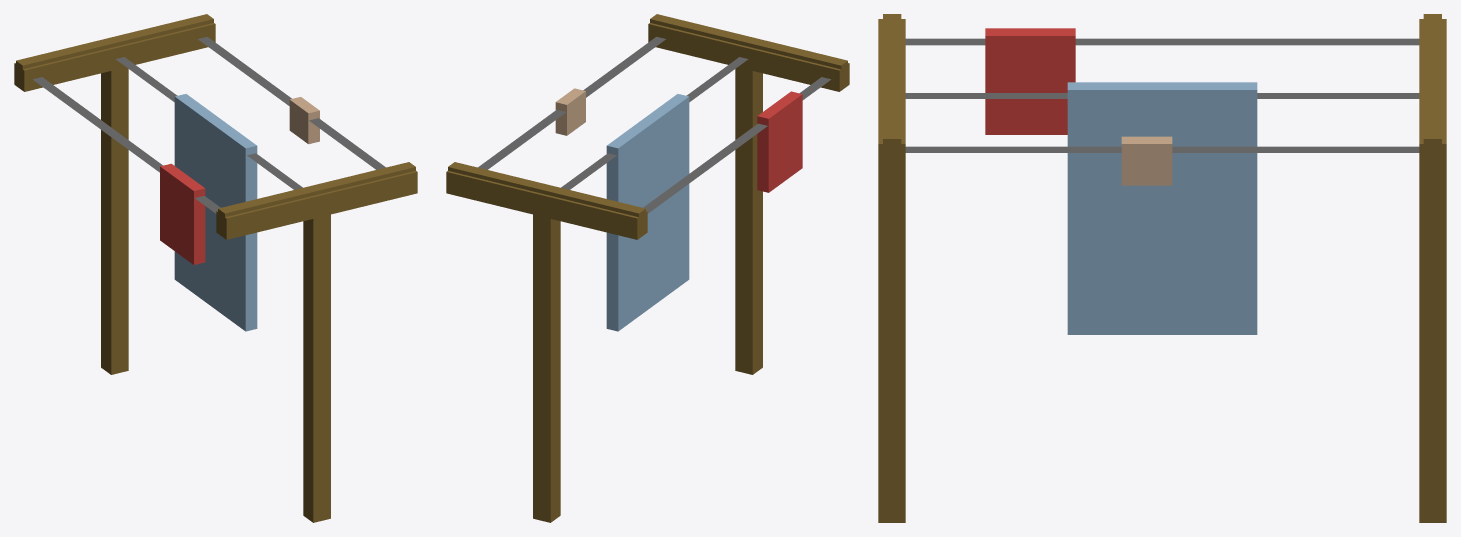
Rendered from clothesLine.fbx.
The picture shows the model from 3 angles, left to right: view 1: azimuth 30°, elevation 25°; view 2: azimuth 150°, elevation 25°; view 3: azimuth 270°, elevation 25°; orthographic projection. The views are drawn at different scales.
Visible parts, largest first — view 1: clothesLine, cloth1, lines, cloth2, cloth3; view 2: clothesLine, cloth1, lines, cloth2, cloth3; view 3: cloth1, clothesLine, cloth2, lines, cloth3.
Boxes of the visible parts, bbox=[...] form: clothesLine: bbox=[14, 14, 417, 522]; cloth1: bbox=[174, 94, 257, 331]; lines: bbox=[33, 36, 385, 213]; cloth2: bbox=[160, 163, 205, 264]; cloth3: bbox=[289, 97, 319, 144]; clothesLine: bbox=[446, 14, 849, 522]; cloth1: bbox=[606, 94, 689, 331]; lines: bbox=[478, 36, 830, 213]; cloth2: bbox=[757, 91, 802, 192]; cloth3: bbox=[555, 88, 585, 135]; cloth1: bbox=[1067, 82, 1257, 334]; clothesLine: bbox=[878, 14, 1446, 522]; cloth2: bbox=[985, 28, 1075, 134]; lines: bbox=[905, 38, 1419, 152]; cloth3: bbox=[1121, 136, 1172, 185].
Size of the model in its own units: 328 by 540 by 630.
